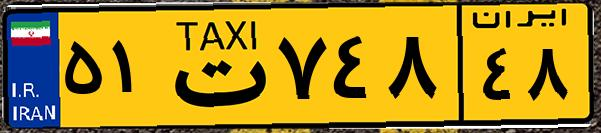1: (110, 28, 158, 98)
4: (330, 28, 385, 110), (475, 38, 525, 113)
5: (57, 26, 110, 100)
7: (270, 28, 330, 110)
8: (385, 28, 445, 110), (525, 38, 570, 115)
ت: (158, 12, 270, 120)
